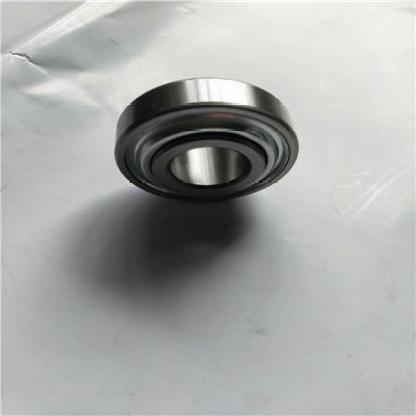FOD: (109, 74, 298, 206)
